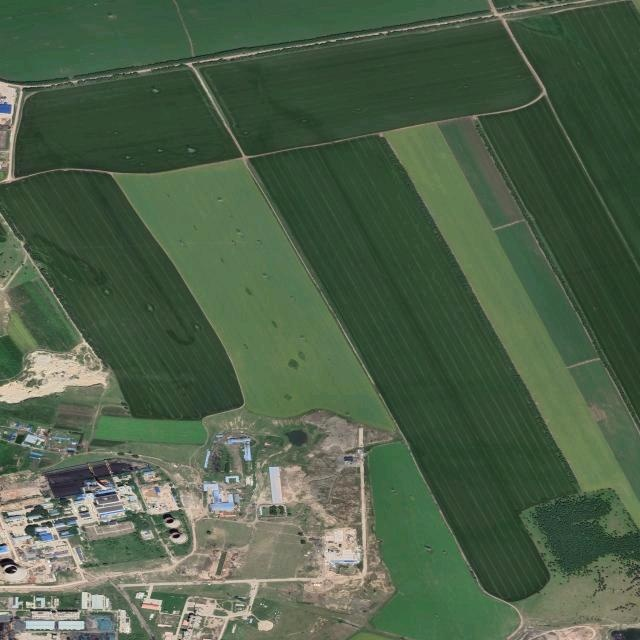coal_fired_power_plant: (0, 454, 191, 583)
